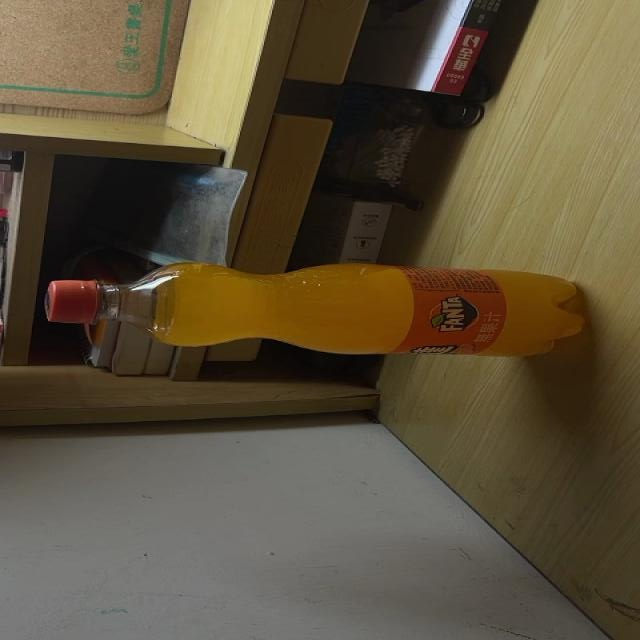Fanta: (45, 262, 587, 356)
